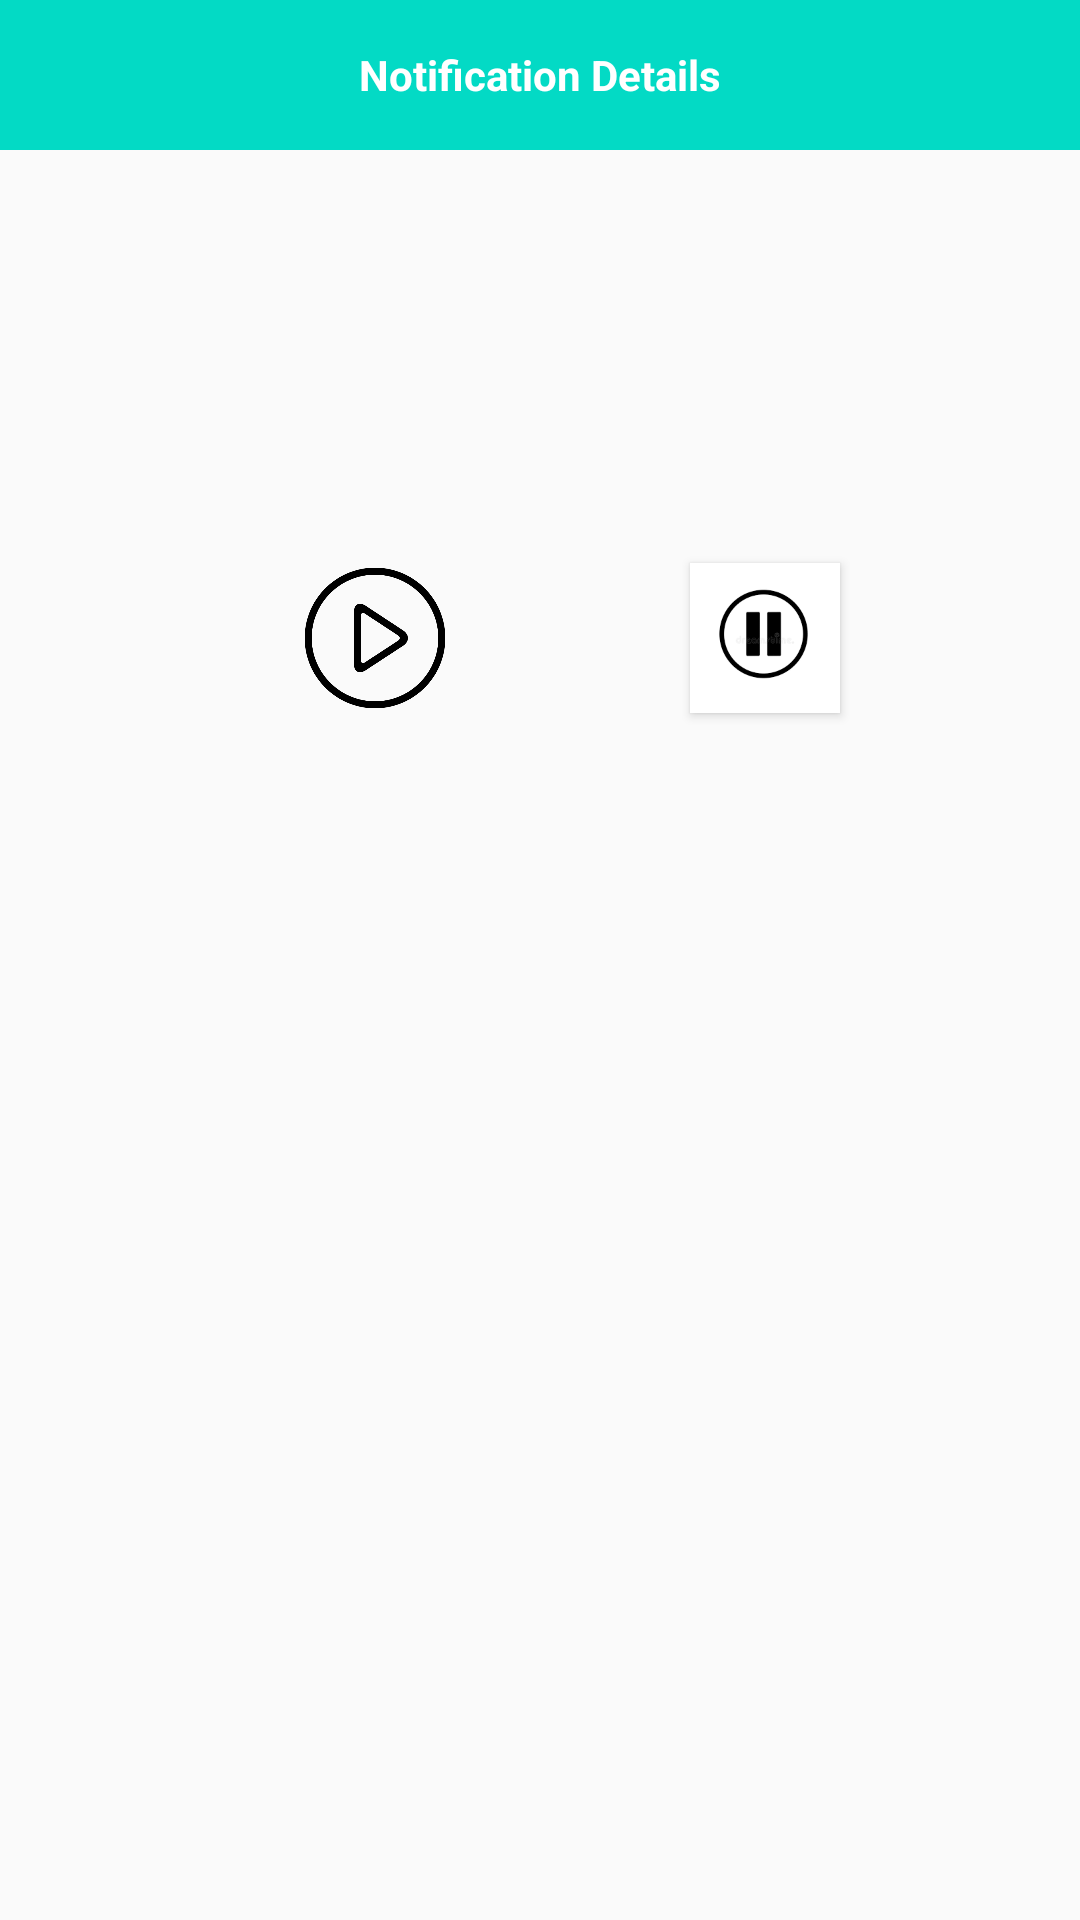

Icon click points for this 1080 × 1920 phone screenshot, format (x,y):
pause: (765,638)
play: (375,638)
